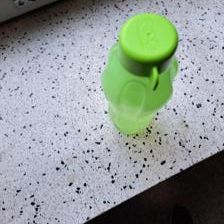bottle: (101, 10, 181, 135)
